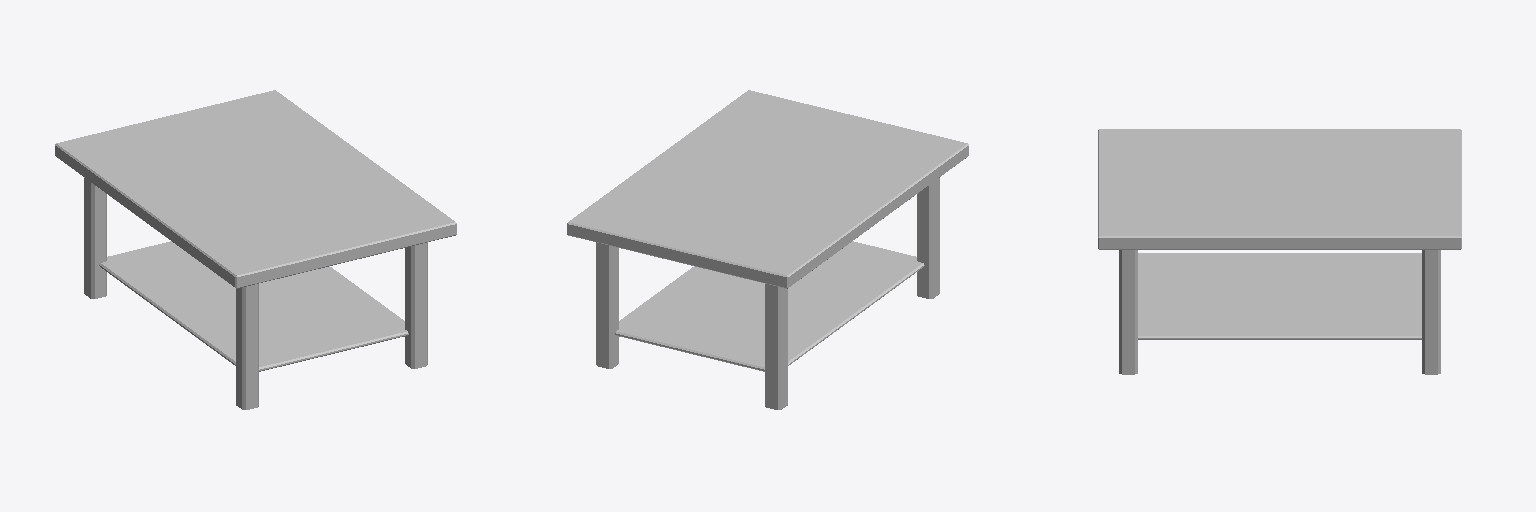
File: coffeetable.obj
The picture shows the model from 3 angles: view 1: azimuth 30°, elevation 25°; view 2: azimuth 150°, elevation 25°; view 3: azimuth 270°, elevation 25°; orthographic projection.
Parts seen in each view (by area): view 1: coffeetable_Plane; view 2: coffeetable_Plane; view 3: coffeetable_Plane.
Boxes of the visible parts, <box> form: coffeetable_Plane: <box>55,90,456,409</box>; coffeetable_Plane: <box>567,90,968,409</box>; coffeetable_Plane: <box>1098,129,1461,374</box>.
Bounding box in the file's own units: 2 × 1.26 × 2.84.